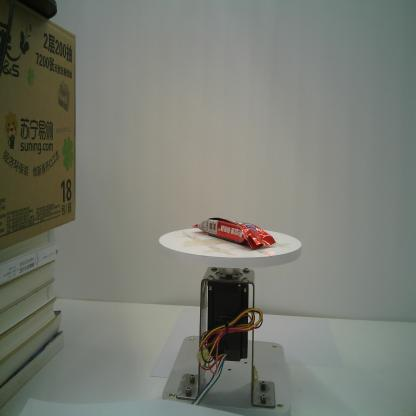Chocolate: (192, 216, 276, 250)
